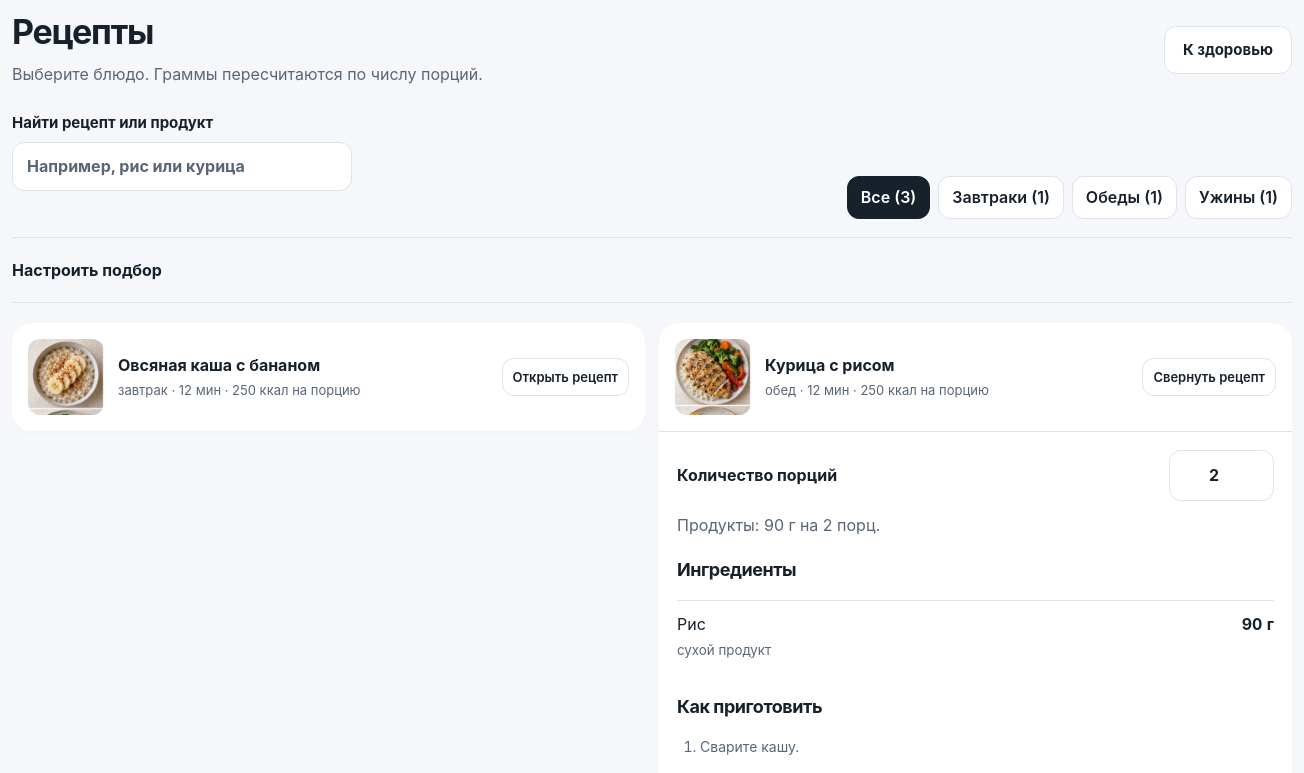
Test: recipe library filters by meal and ingredient while keeping a deep linked recipe visible
The image size is (1304, 773).
Step 1. Click the button "Ужины (1)" → (1238, 198), box [1185, 176, 1292, 219]
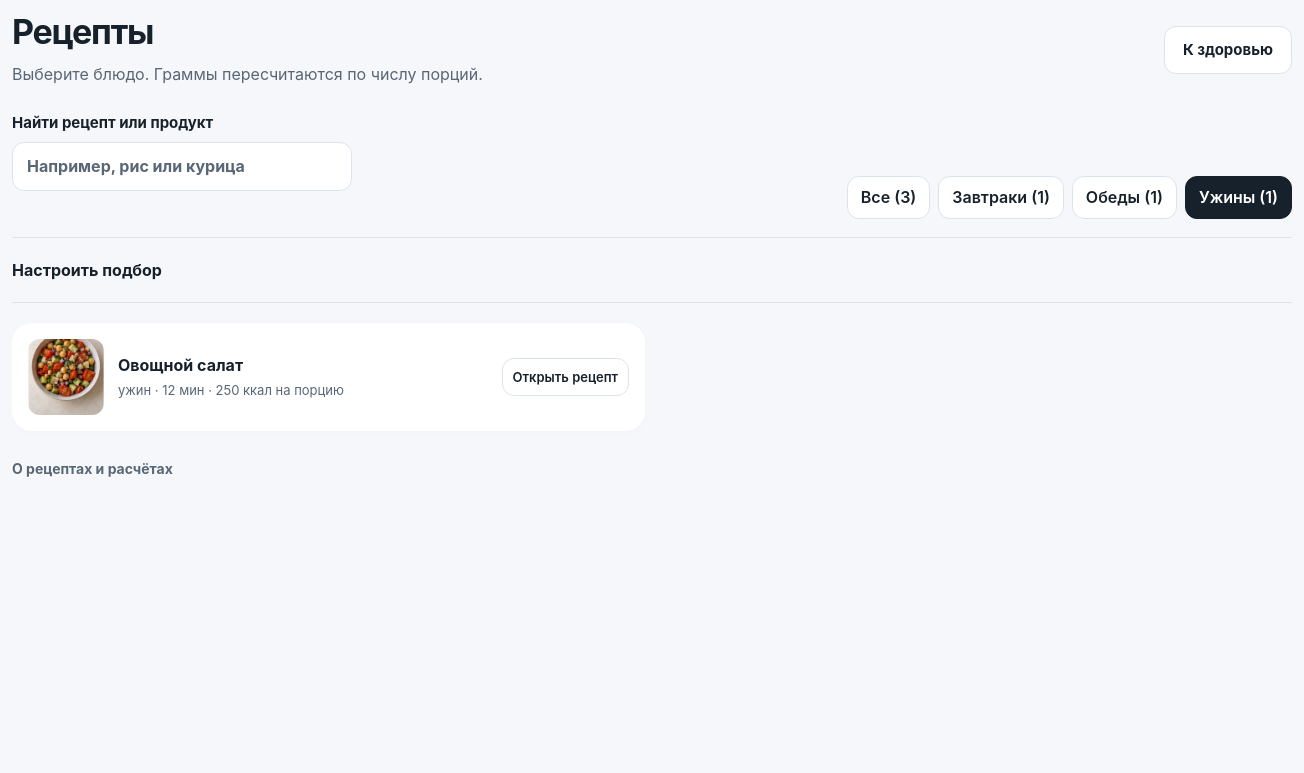
Expected: the text "Овощной салат" is shown, [118, 355, 243, 375]
Expected: the heading "Курица с рисом" is gone
Step 2. Type "рис" into the search field labelled "Найти рецепт или продукт" → (182, 166), box [12, 142, 352, 191]
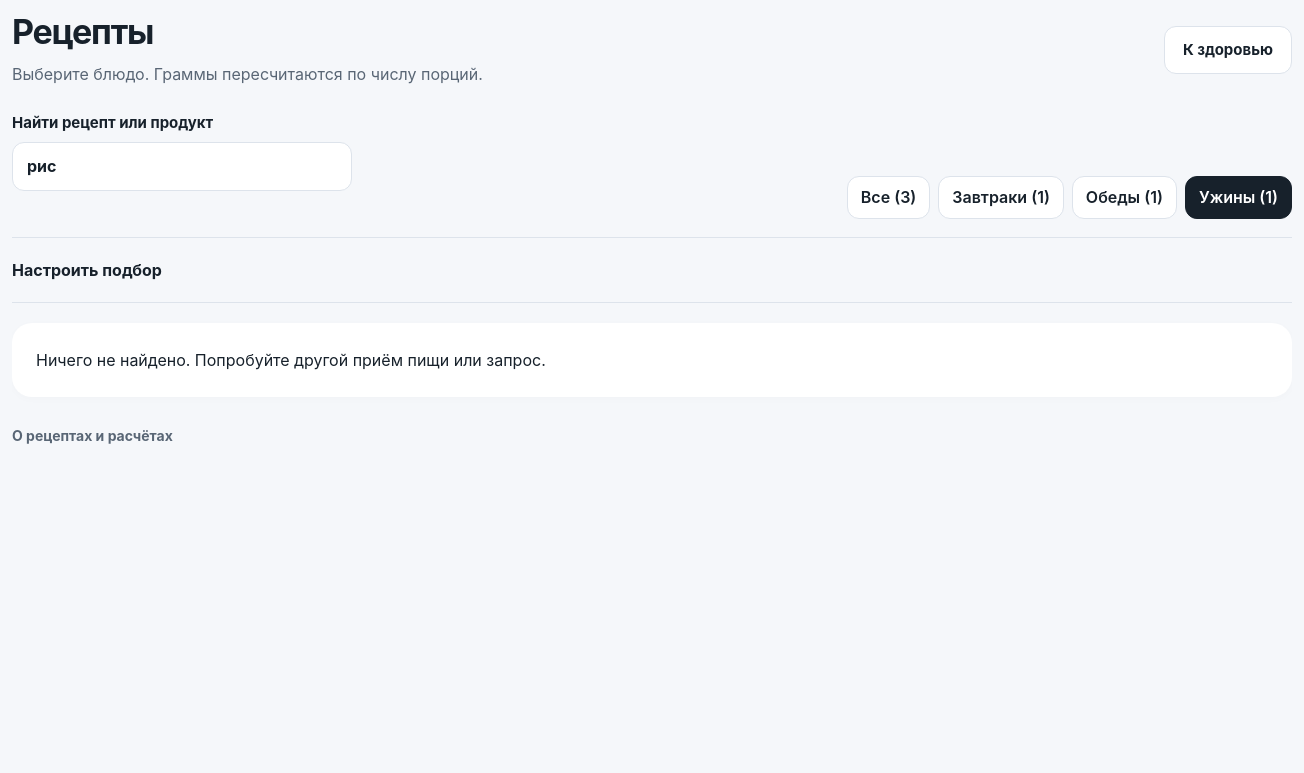
Expected: the text "Ничего не найдено. Попробуйте другой приём пищи или запрос." is shown, [12, 323, 1292, 398]
Step 3. Click the button "Все (3)" → (889, 198), box [847, 176, 930, 219]
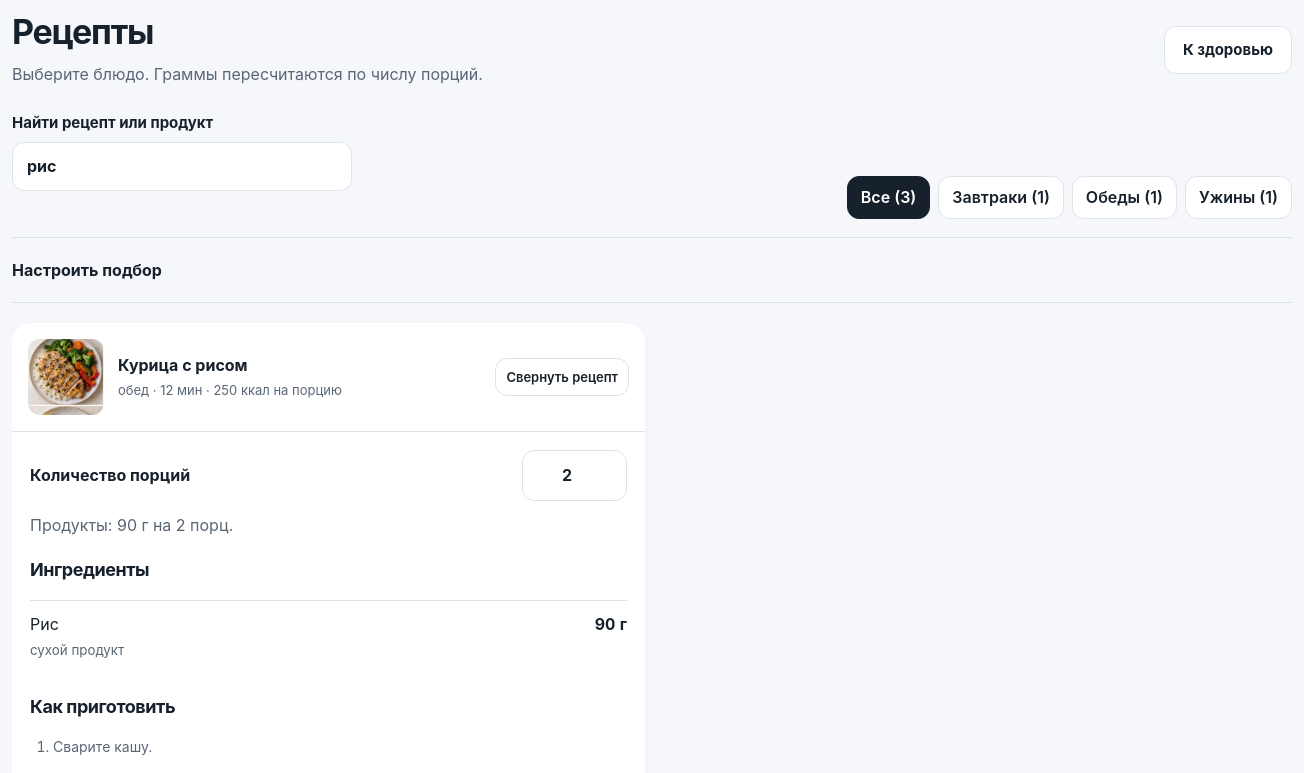
Expected: the heading "Овсяная каша с бананом" is not shown
Expected: the text "Курица с рисом" is shown, [118, 355, 248, 375]
